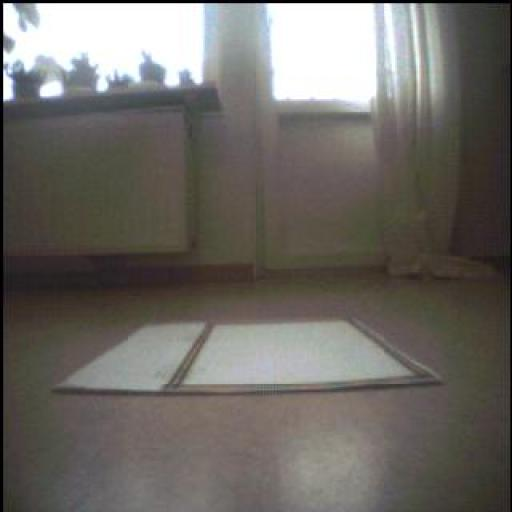Pad: (161, 317, 425, 397)
